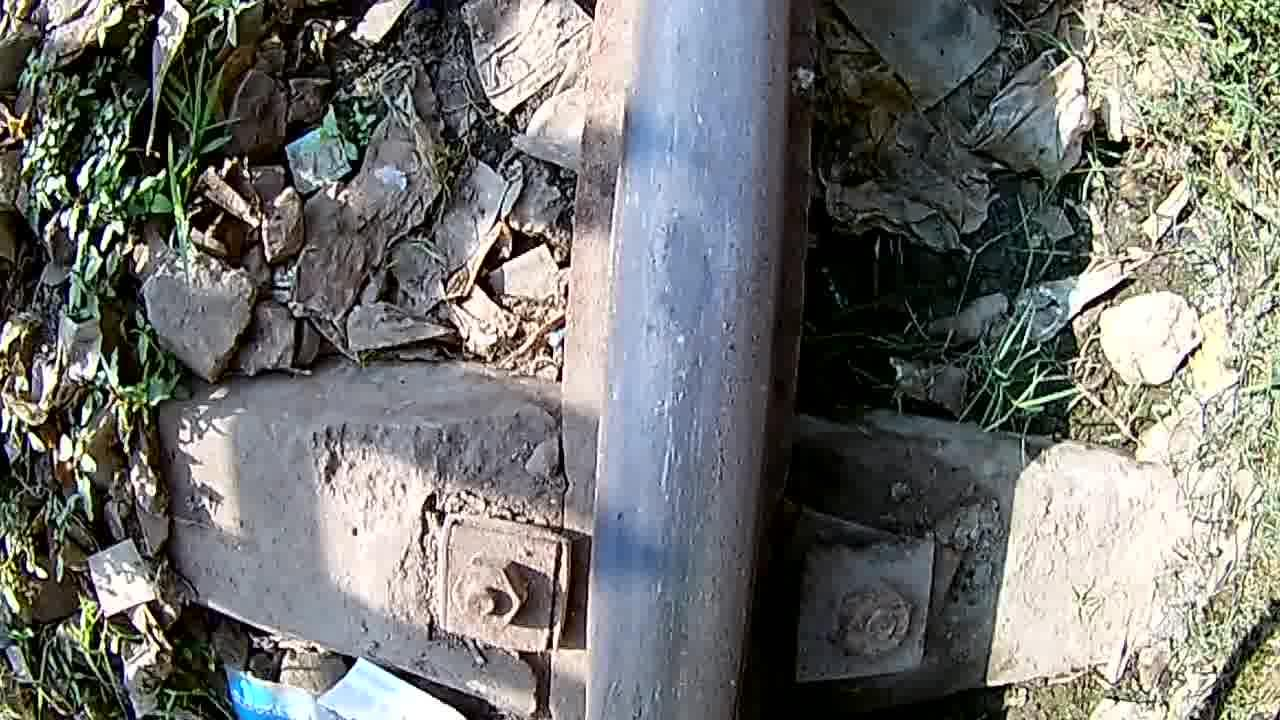bolt_missing: (606, 160, 776, 408)
